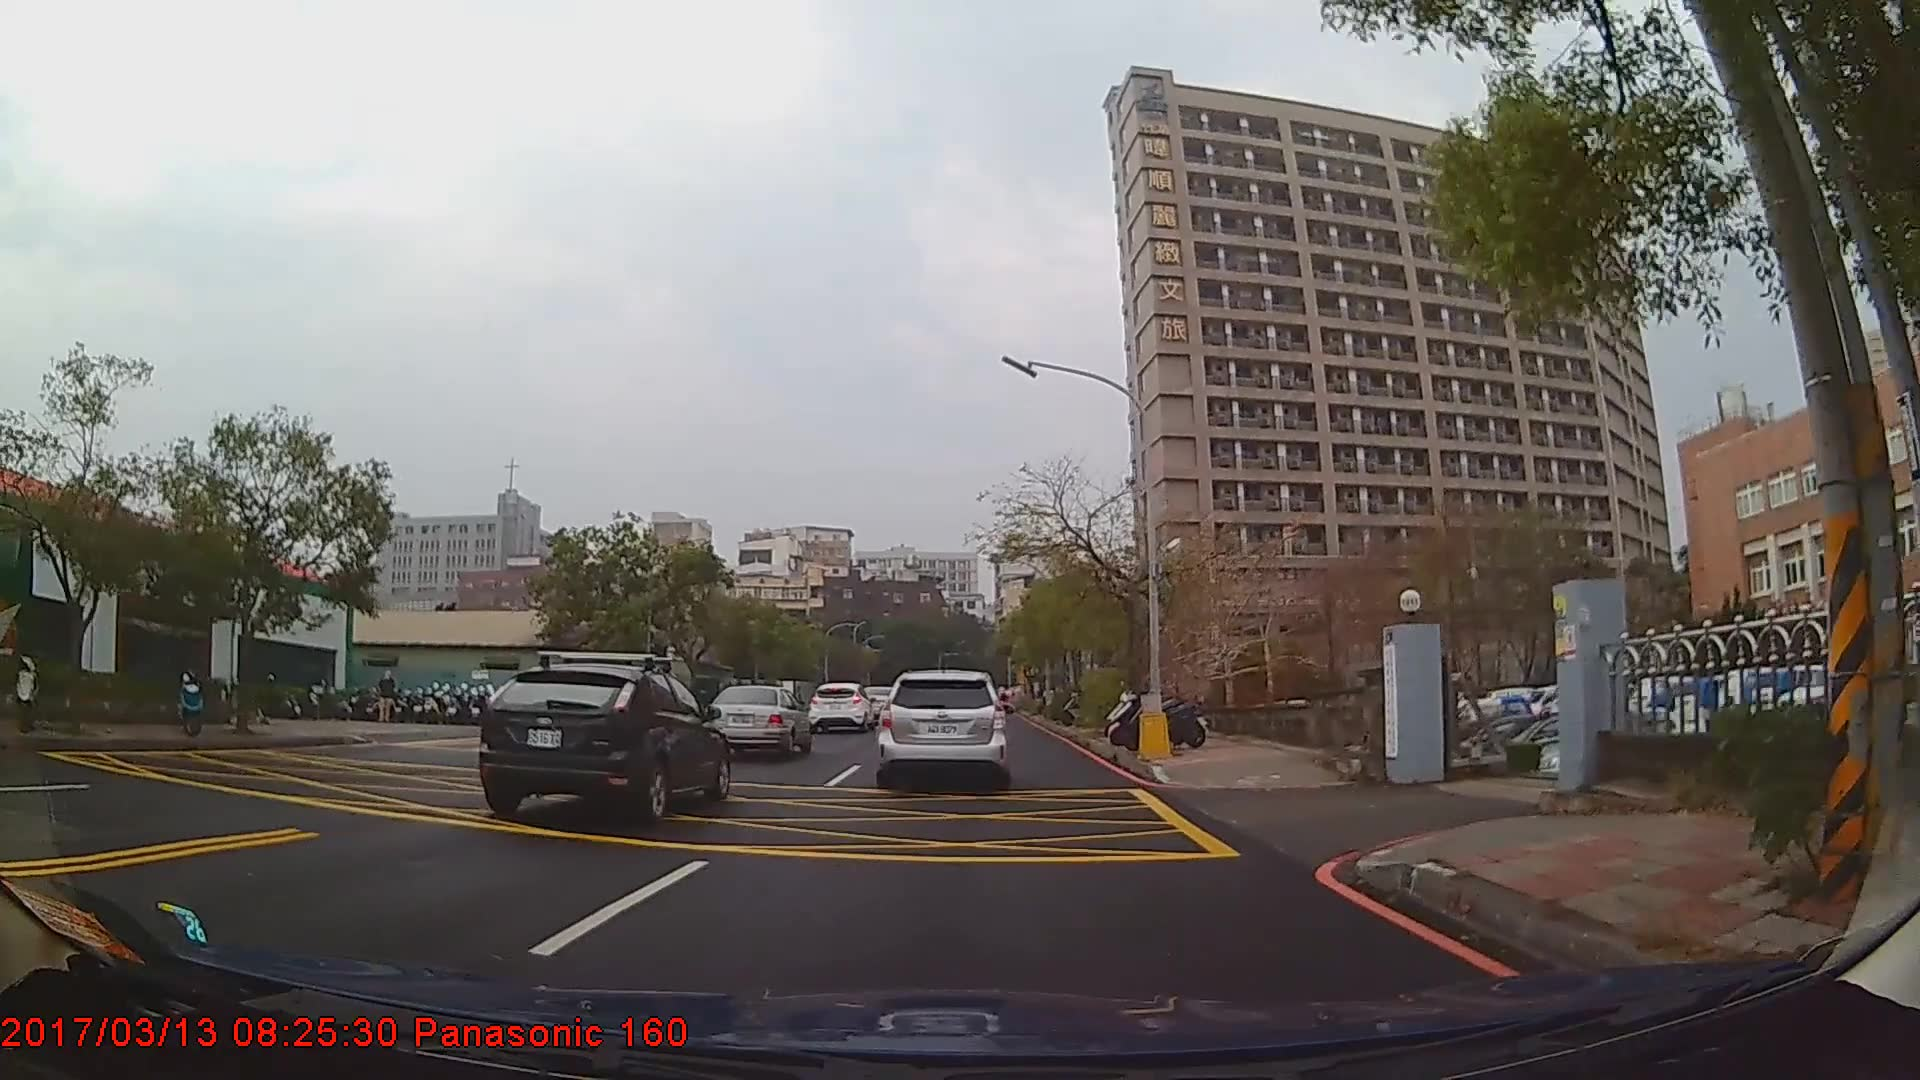pedestrian: (379, 672, 399, 726)
vehicle: (475, 664, 727, 824), (877, 670, 1006, 789), (706, 683, 812, 759), (0, 503, 33, 716), (808, 680, 874, 732)
